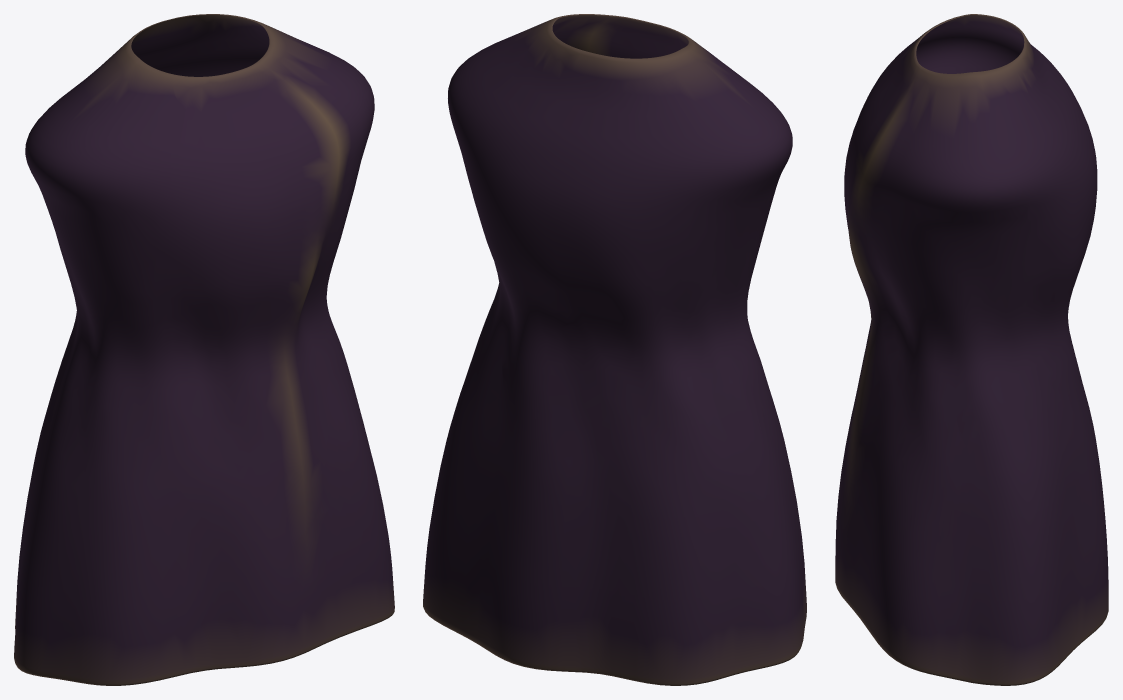
File: wuling-attire-3ed22024413c.glb
3 views of the same model, side by side, from view 1: azimuth 30°, elevation 25°; view 2: azimuth 150°, elevation 25°; view 3: azimuth 270°, elevation 25° (orthographic). The views are drawn at different scales.
Visible parts, largest first — view 1: SM_Hero_wuling_TailoredCoat_A; view 2: SM_Hero_wuling_TailoredCoat_A; view 3: SM_Hero_wuling_TailoredCoat_A.
Boxes of the visible parts, box(x1,y1,x2,y2) form: SM_Hero_wuling_TailoredCoat_A: box(14, 14, 394, 685); SM_Hero_wuling_TailoredCoat_A: box(423, 14, 806, 685); SM_Hero_wuling_TailoredCoat_A: box(835, 14, 1108, 685).
Size of the model in its own units: 0.4396 by 0.7171 by 0.315.
